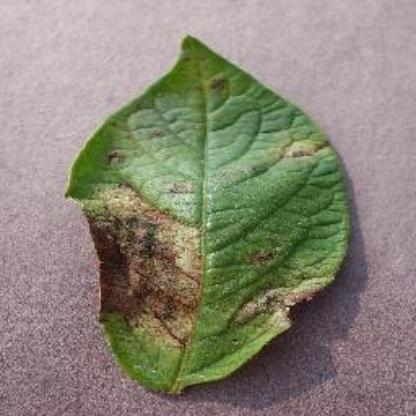Late-Blight: (70, 31, 376, 396)
